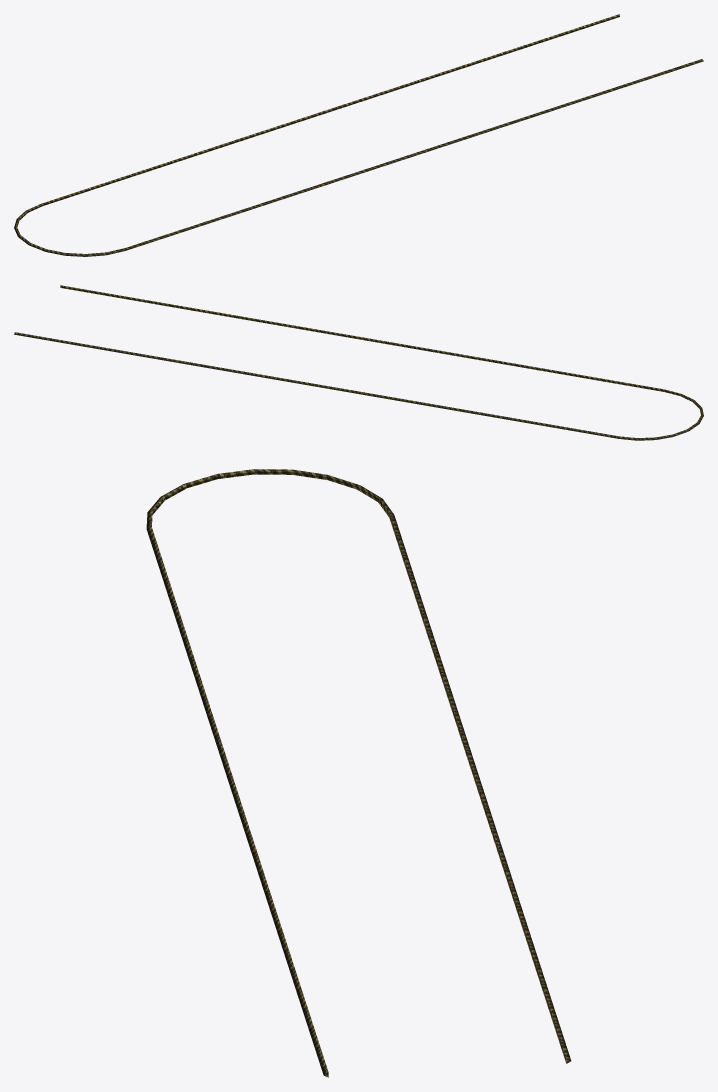
File: SWORDLIGHT20_ROPE4.fbx
3 views of the same model, one above another, from view 1: azimuth 30°, elevation 25°; view 2: azimuth 150°, elevation 25°; view 3: azimuth 270°, elevation 25° (orthographic). The views are drawn at different scales.
Visible parts, largest first — view 1: SWORDLIGHT20_ROPE4; view 2: SWORDLIGHT20_ROPE4; view 3: SWORDLIGHT20_ROPE4.
Part boxes in pixels (x1,y1,x2,y2): SWORDLIGHT20_ROPE4: (14, 14, 703, 256); SWORDLIGHT20_ROPE4: (14, 285, 703, 440); SWORDLIGHT20_ROPE4: (146, 469, 571, 1077).
Bounding box in the file's own units: 153831 × 633 × 45596.
Materials: 1 (1 with a texture image).
